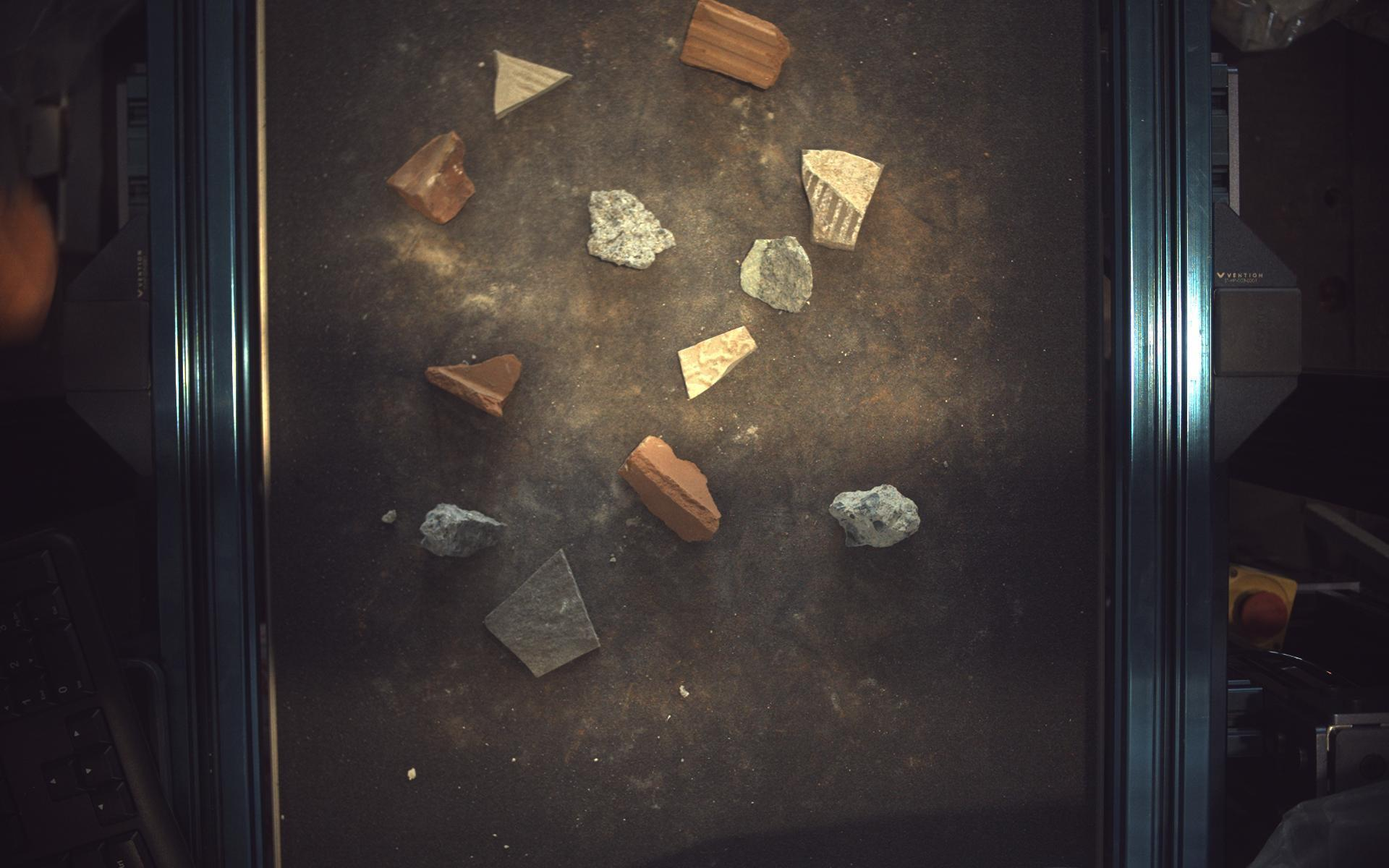brick: (619, 436, 722, 542), (681, 1, 791, 88), (387, 129, 475, 223), (425, 354, 522, 417)
concrete: (588, 189, 676, 268), (831, 485, 922, 548), (742, 235, 815, 312), (420, 505, 505, 558)
tile: (484, 550, 600, 678), (803, 148, 885, 250), (680, 327, 757, 399), (494, 49, 572, 118)
